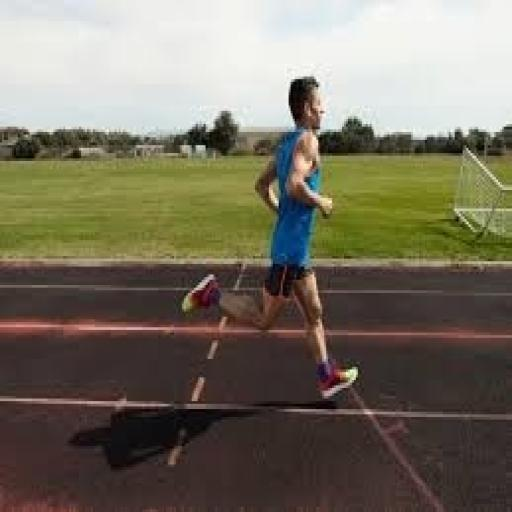running: (178, 71, 362, 404)
